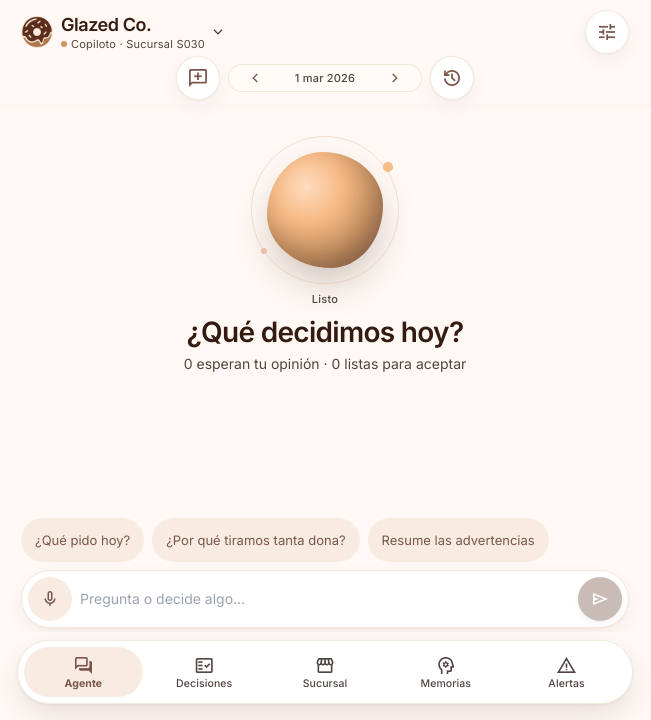
Scenario: auth gate › auth_required with me 200 shows the app and the user
Click the button named "Ajustes del copiloto".
click(607, 32)  # box [585,10,629,54]
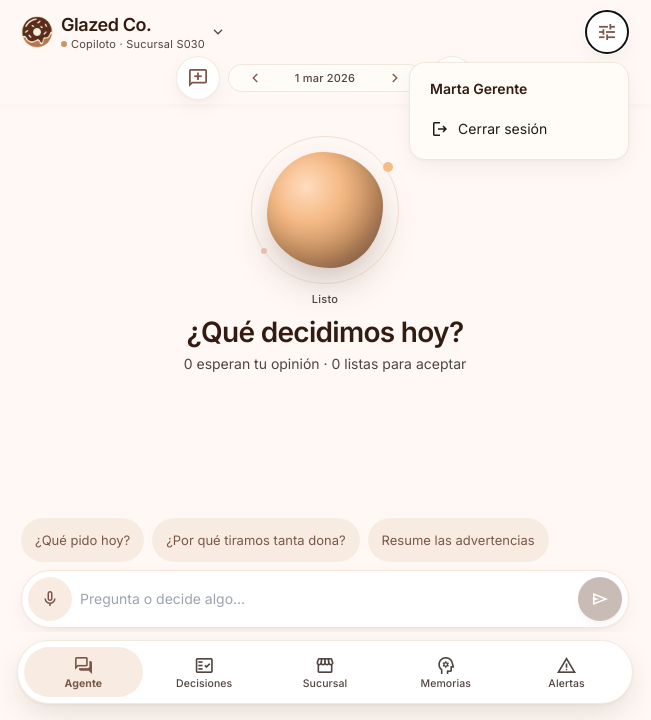
Expected: the text "Marta Gerente" is shown, [430,80,527,97]
Expected: the menu item "Cerrar sesión" is shown, [418,107,620,151]
